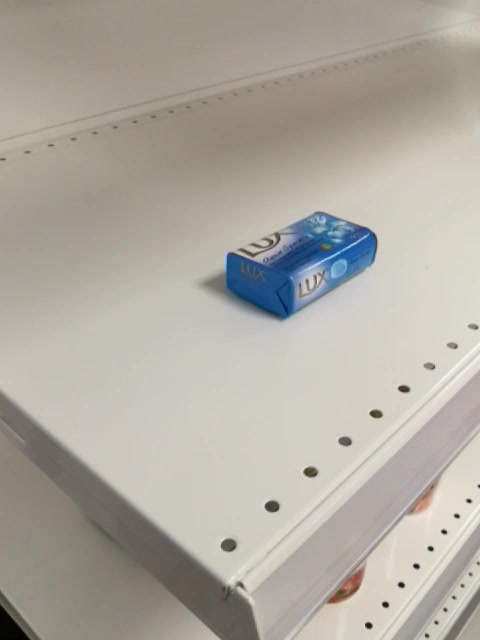soap: (225, 209, 379, 321)
